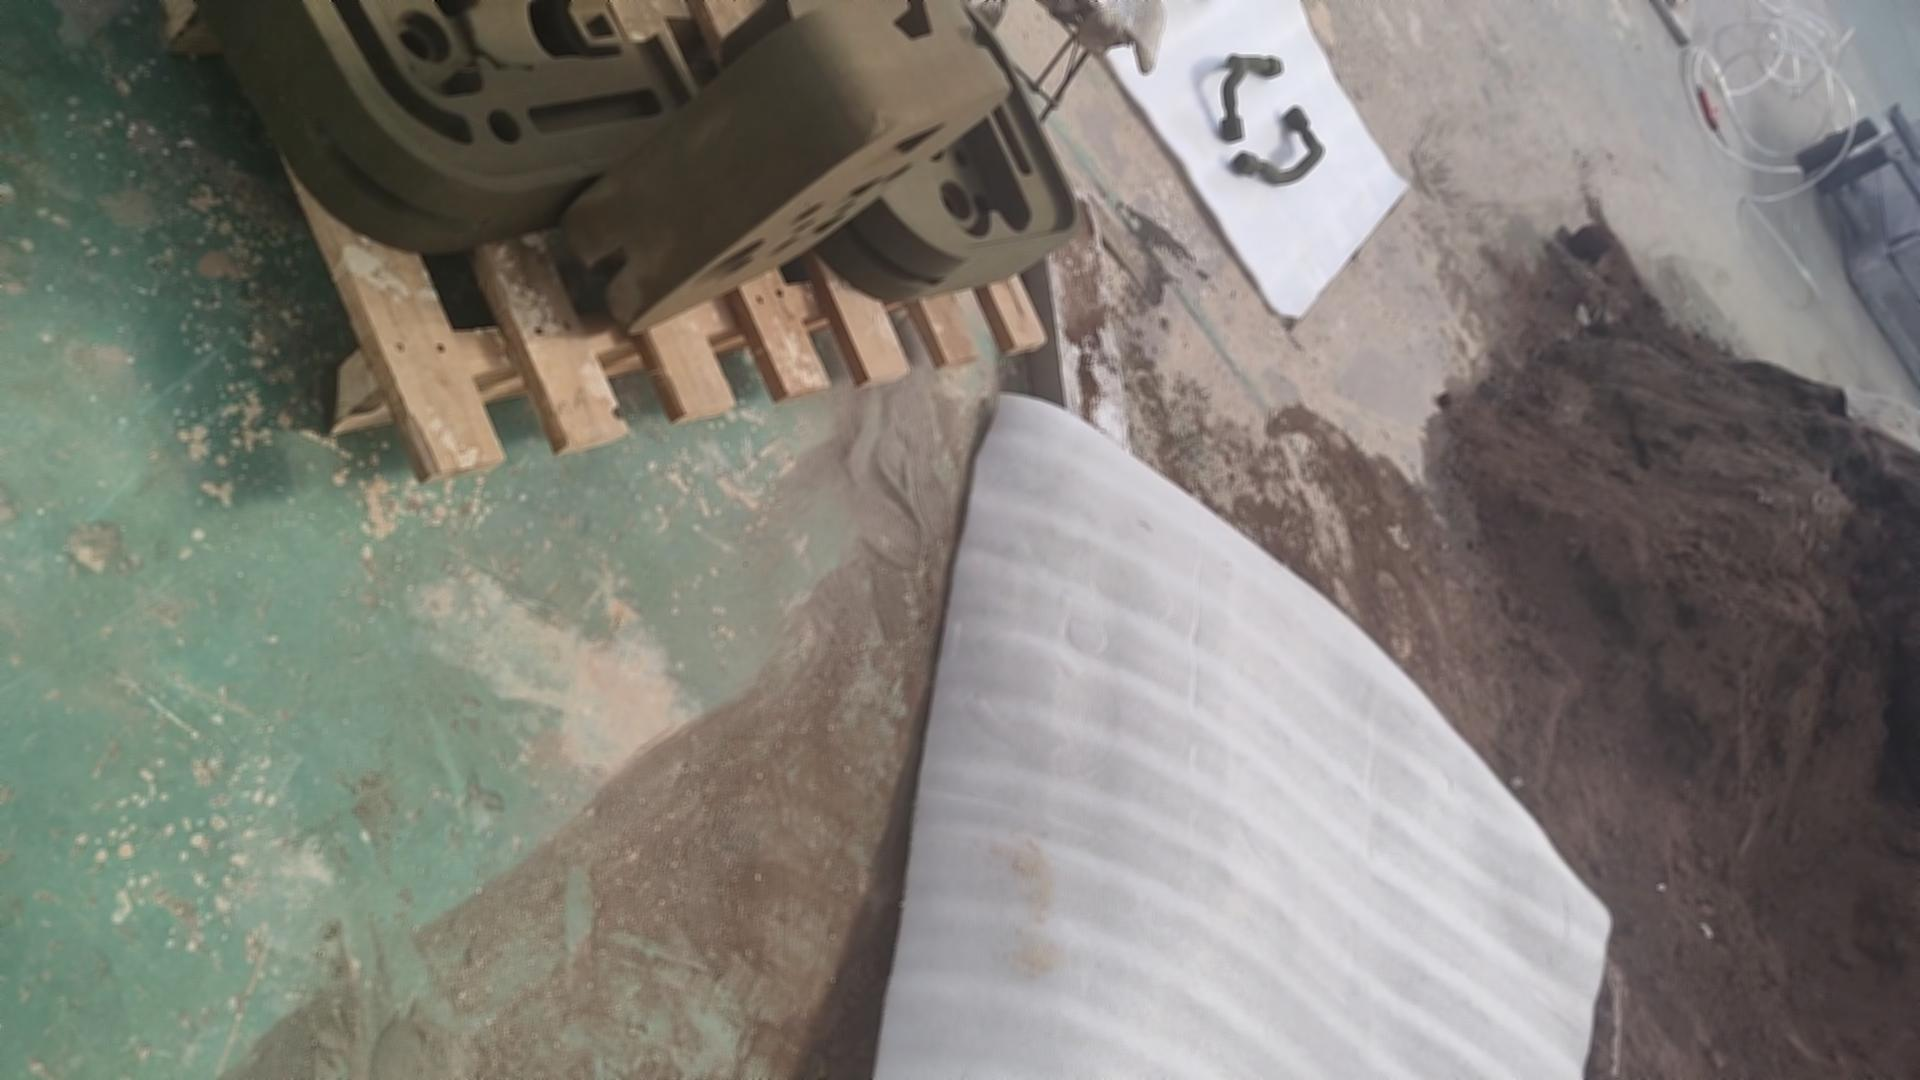pouring hole: (692, 237, 767, 294)
